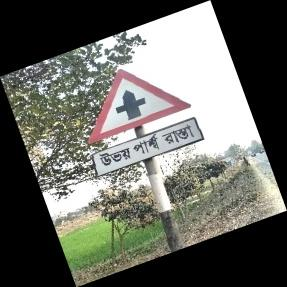Crossroad: (87, 69, 210, 172)
